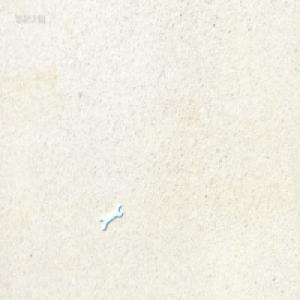Wrench: (100, 201, 123, 229)
